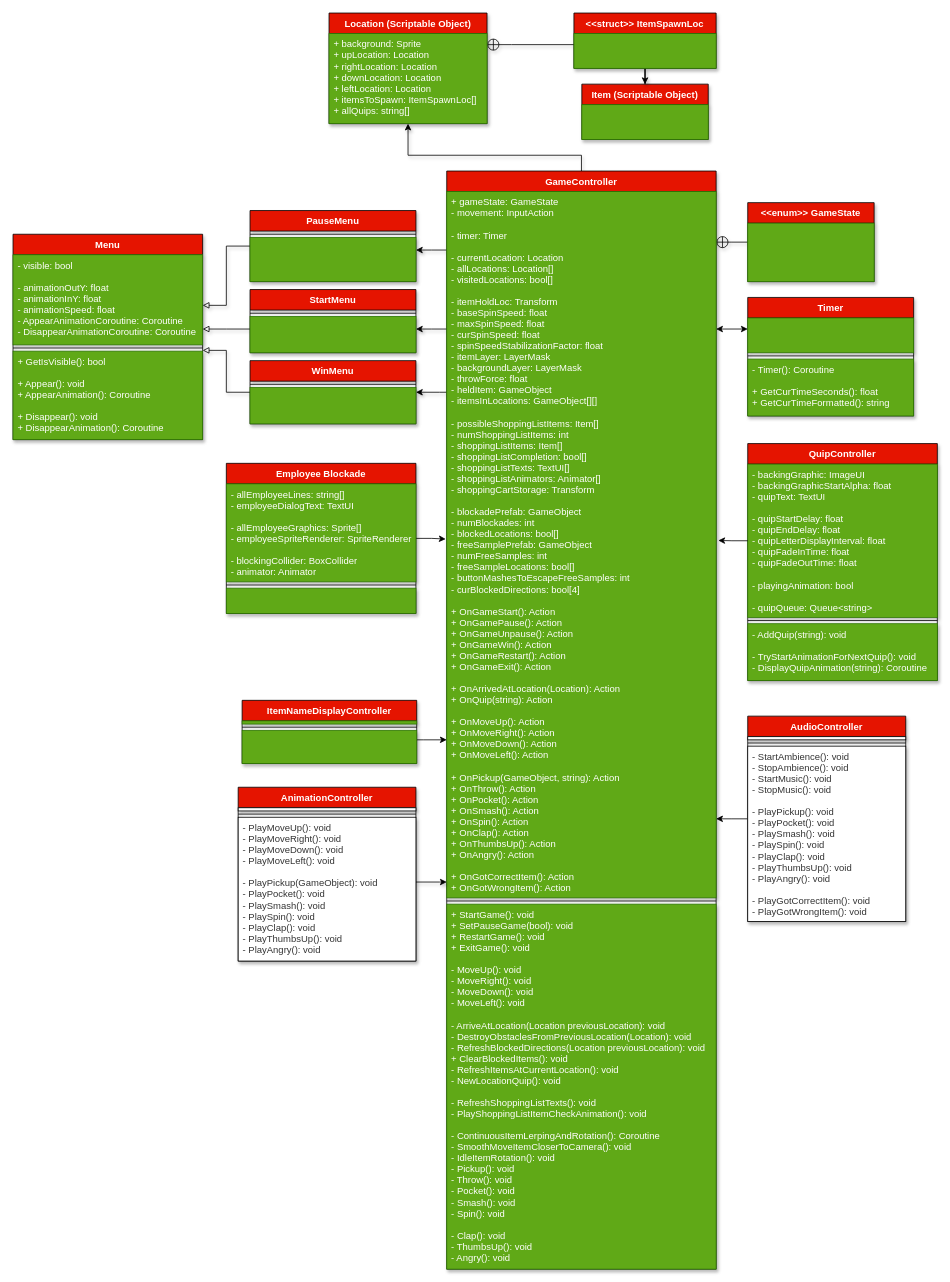
Image size: 950x1282. Some labels were removed from this diagram. The shapes that lost their labels are listed below. From the top down, each one's centre as x and y in pixels, then its label:
point (645, 52): + item: Item + spawnLoc: Vector2
point (645, 123): + itemObject: GameObject + itemName: string
point (333, 260): + Continue(): void + RestartGame(): void + ExitGame(): void
point (811, 253): Playing StartMenu PauseMenu WinMenu
point (333, 335): + StartGame(): void + ExitGame(): void
point (831, 336): - curTime: float - timerText: TextUI
point (333, 406): + RestartGame(): void + ExitGame(): void
point (321, 601): - HitByItem(): void
point (329, 747): - DisplayItemName(string): void - HideItemName(): void
